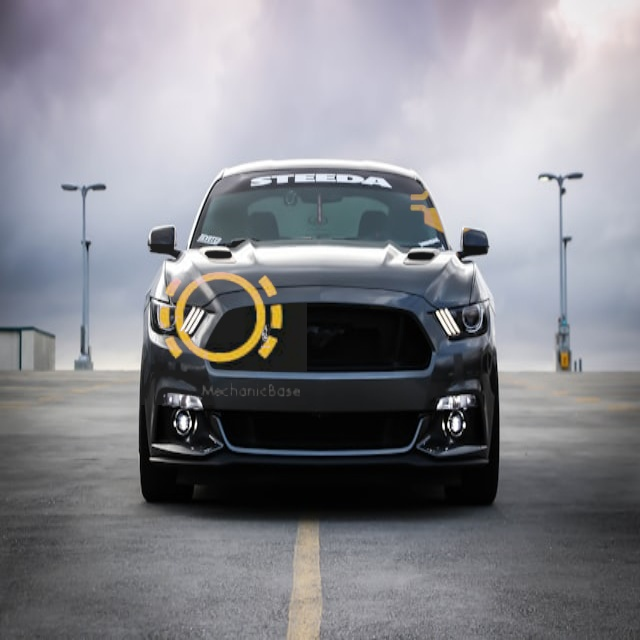symbol: (133, 231, 307, 405), (370, 140, 539, 309)
